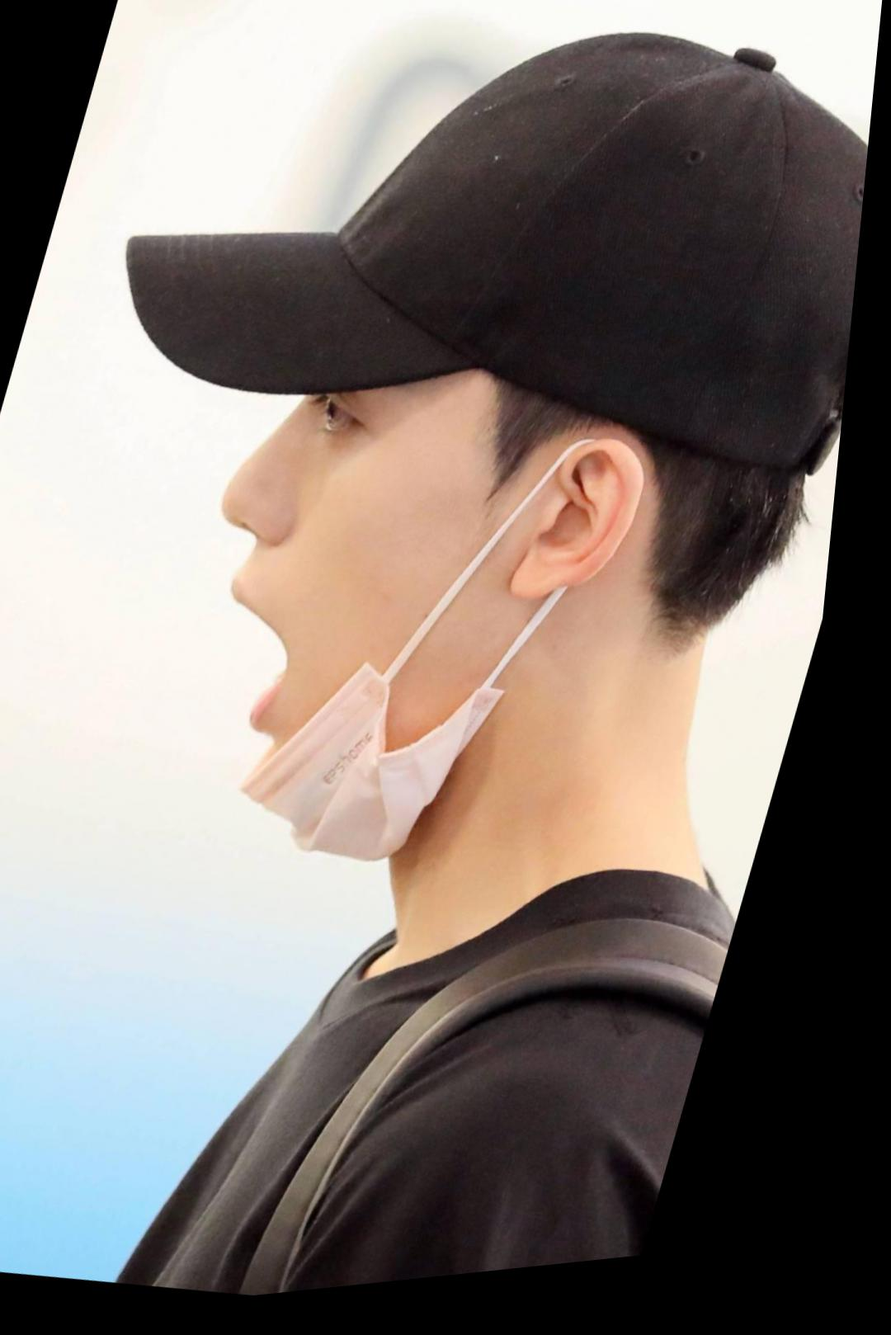WRONG: (153, 286, 566, 820)
